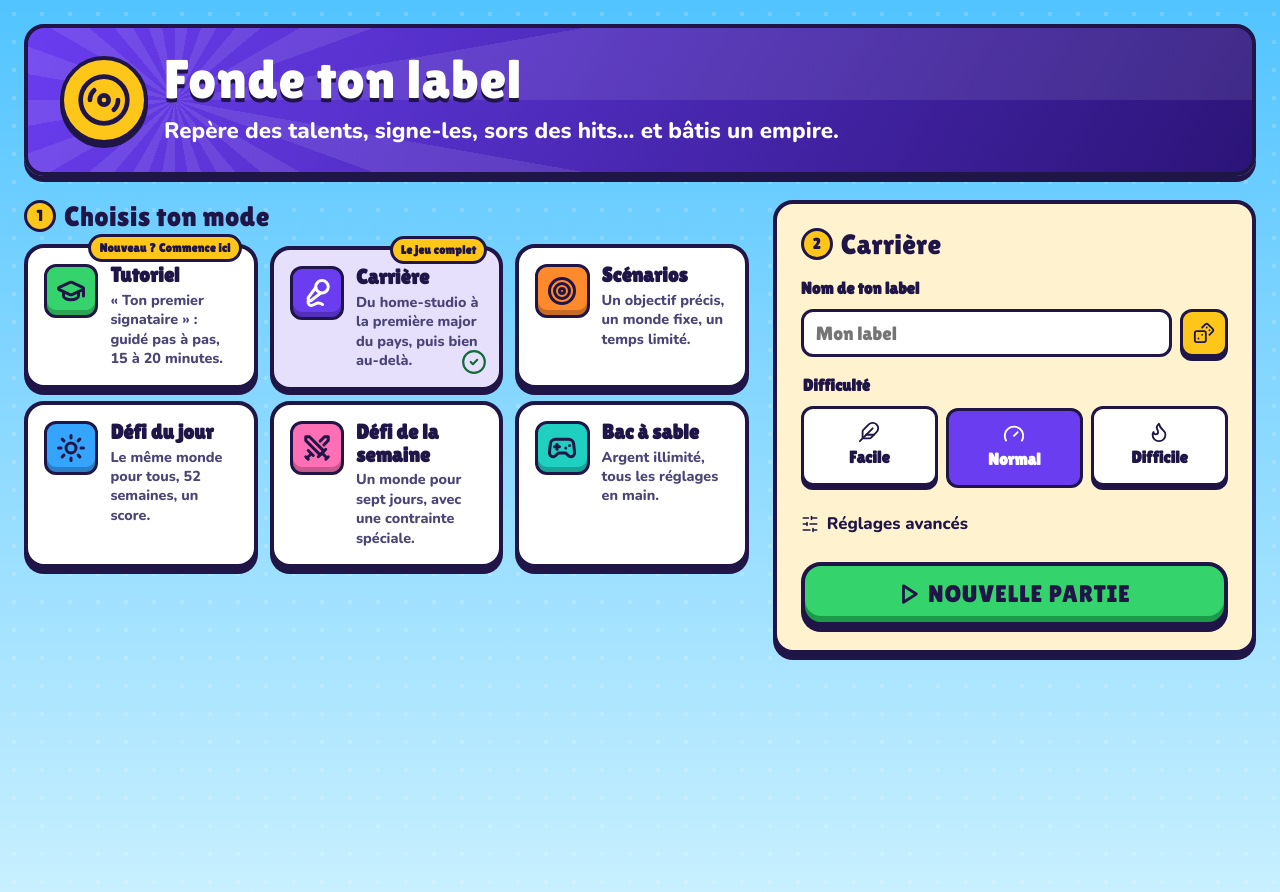
Test case: écran Régulation › reste fermé avant le palier Groupe
Step 1. Click the button "Nouvelle partie" → click(1014, 594), box [801,562,1228,626]
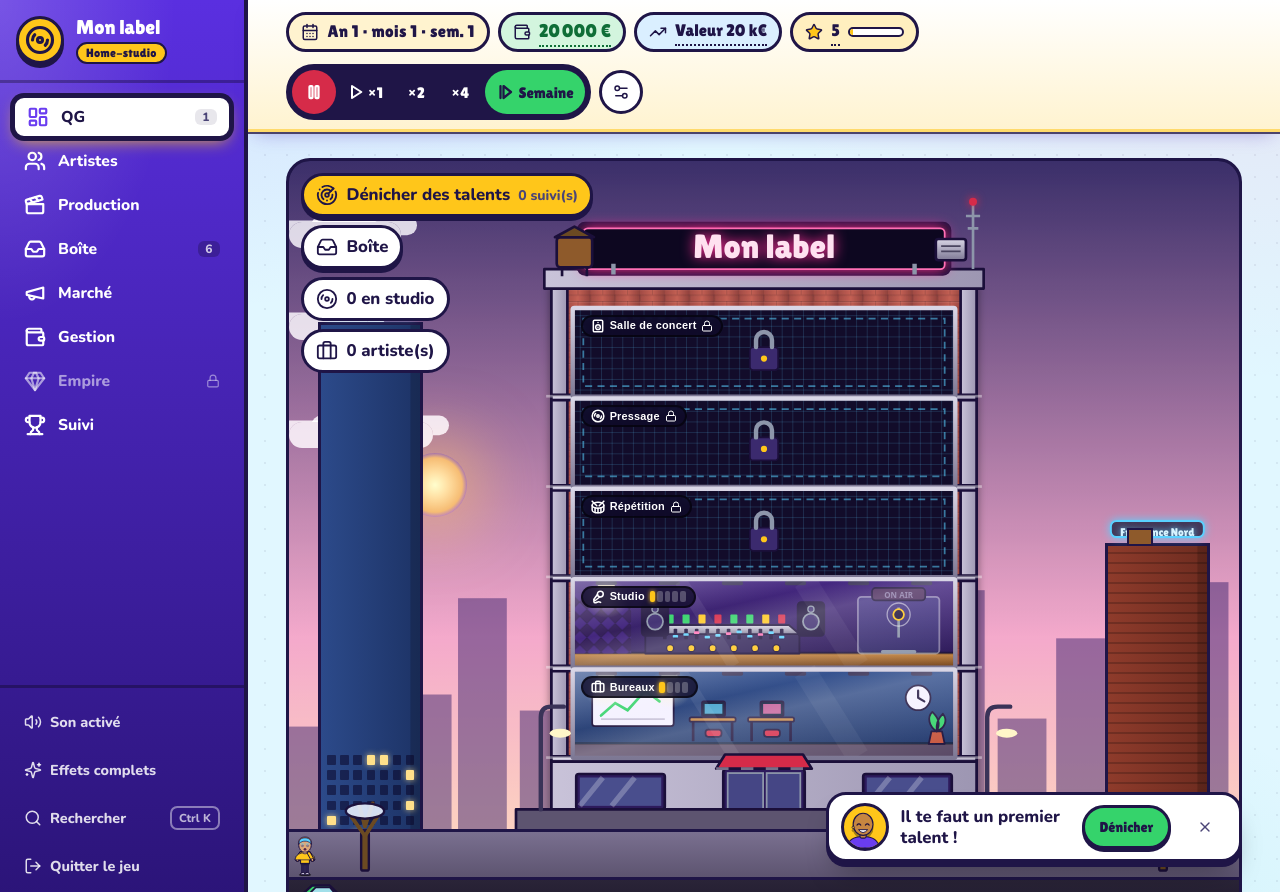
Now the navigation bar named "Écrans du jeu" is shown, box [12,95,232,447]
Step 2. Click the button "Empire" → click(122, 381), box [12,359,232,403]
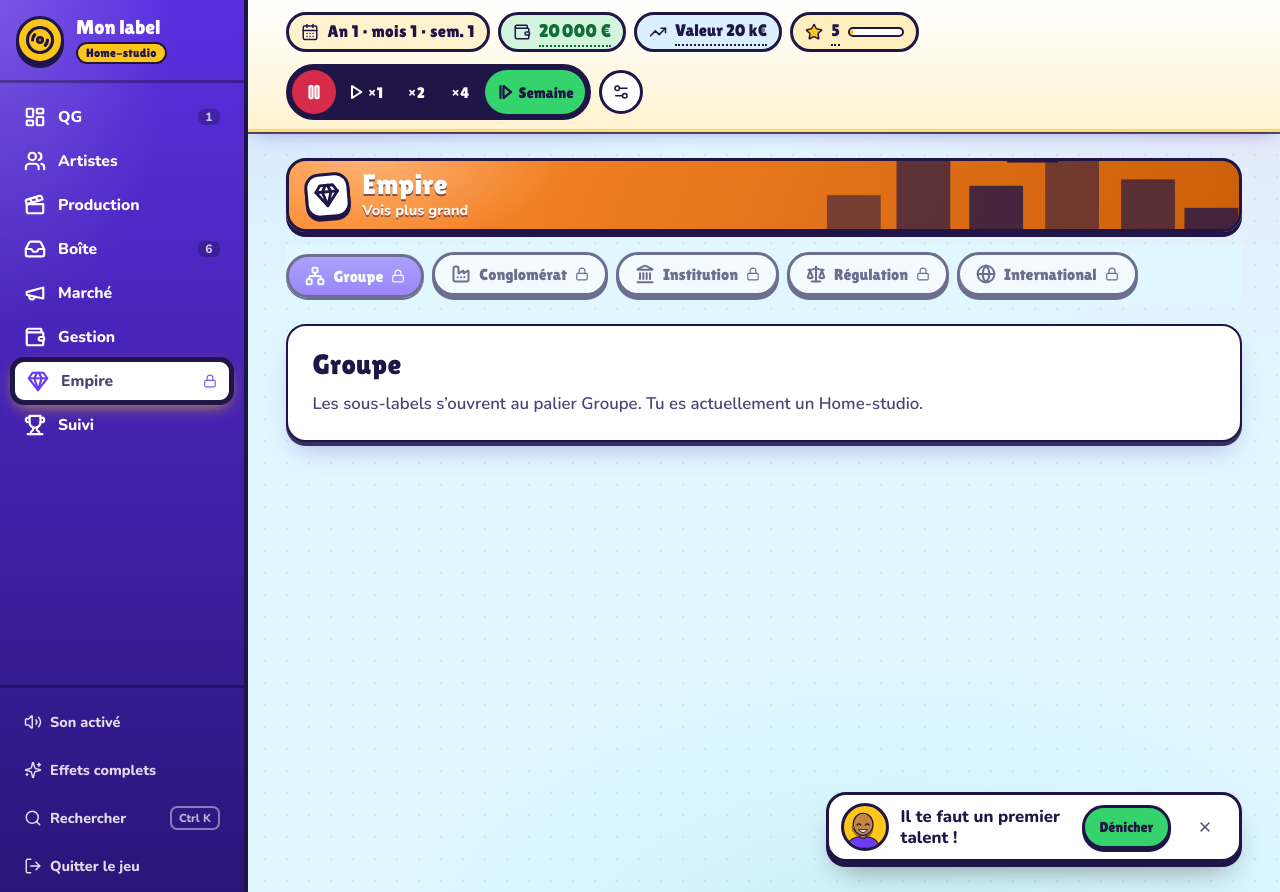
Step 3. Click the tab "Régulation" → click(868, 274), box [787,252,949,296]
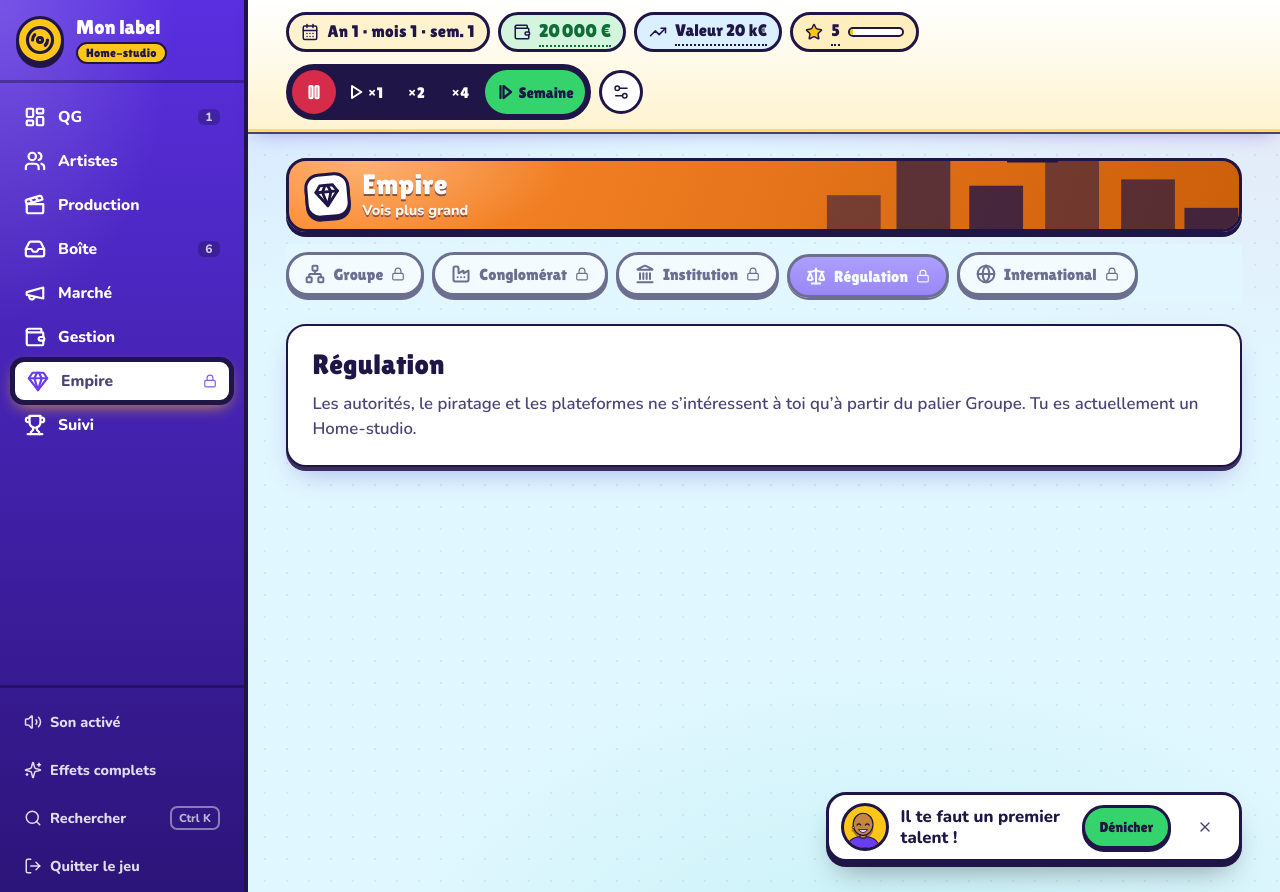
Now the text "qu’à partir du palier Groupe" is shown, box [312,392,1198,415]
